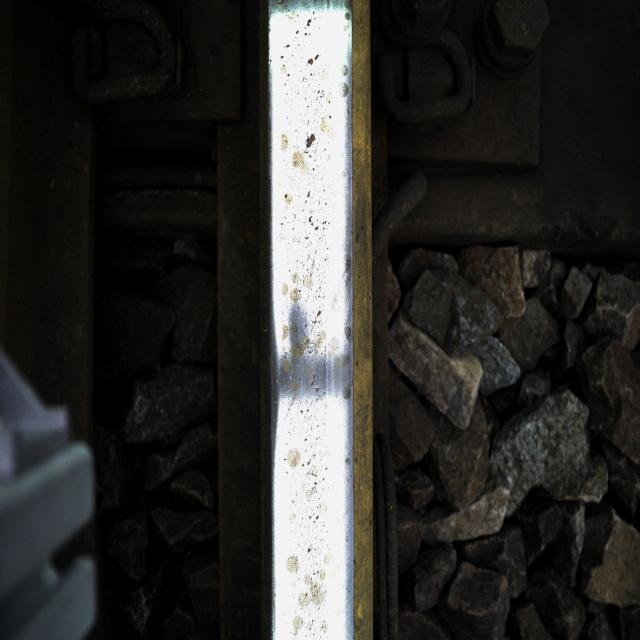scar: (276, 9, 340, 631)
